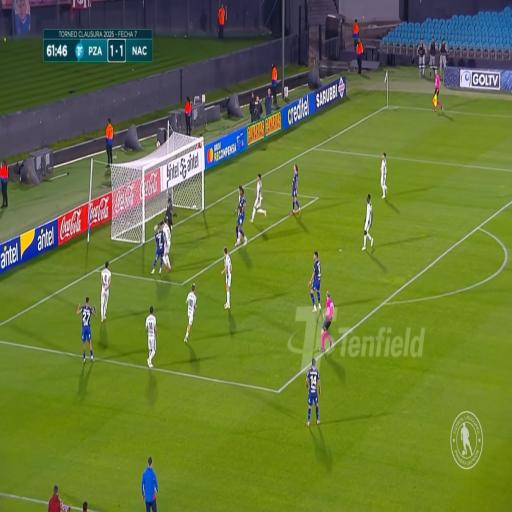Goalkeeper: (320, 292, 336, 351), (164, 190, 174, 232), (433, 73, 442, 110)
Player: (304, 353, 324, 424), (77, 292, 95, 362), (221, 243, 235, 316), (361, 191, 375, 260), (97, 258, 111, 326), (308, 248, 322, 312), (184, 284, 198, 343), (248, 170, 262, 227), (290, 155, 300, 229), (380, 144, 392, 204), (162, 208, 172, 276), (154, 217, 164, 281), (236, 186, 247, 243), (148, 306, 156, 366)
